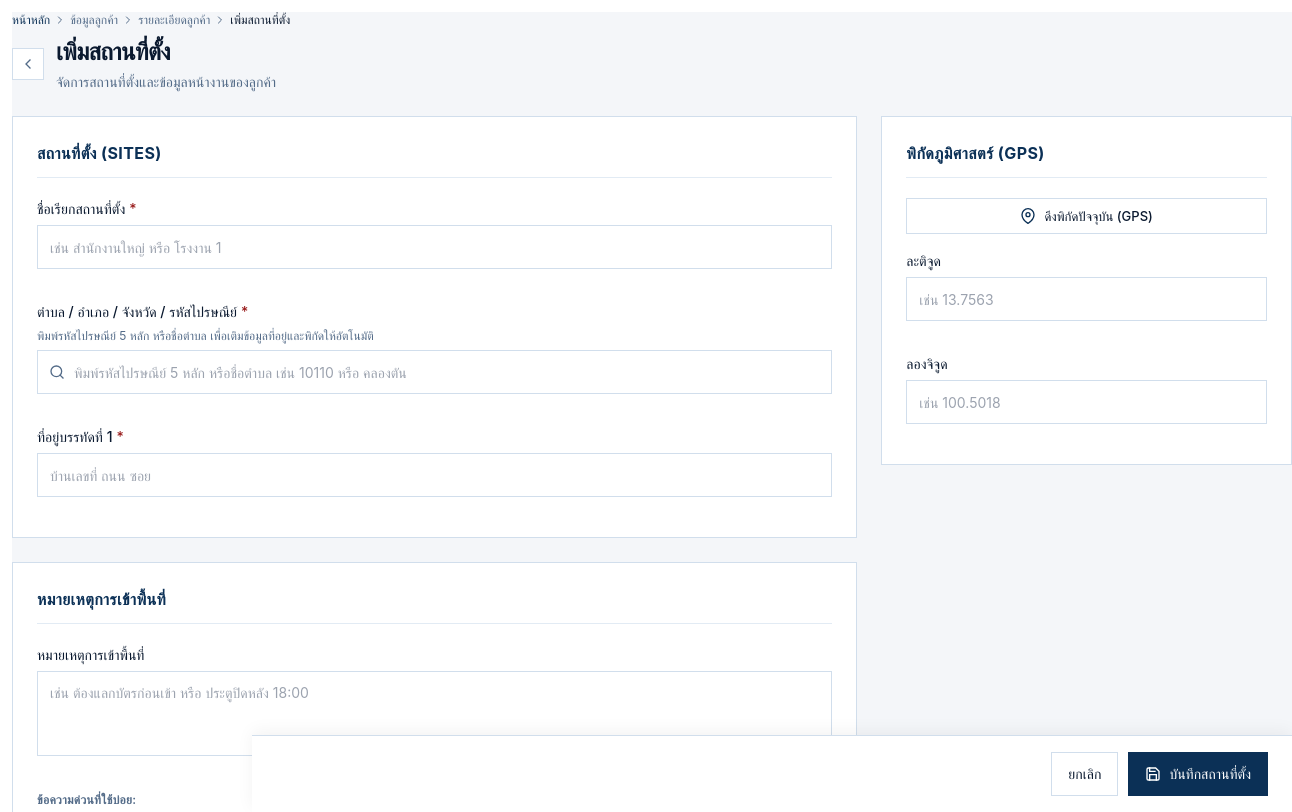
Test case: SiteEditor › clears pair validation error dynamically when second coordinate is entered
Type "13.8057436" into the number field labelled "ละติจูด".
click(1087, 299); type("13.8057436")  # box top-left (906, 277), bottom-right (1267, 321)
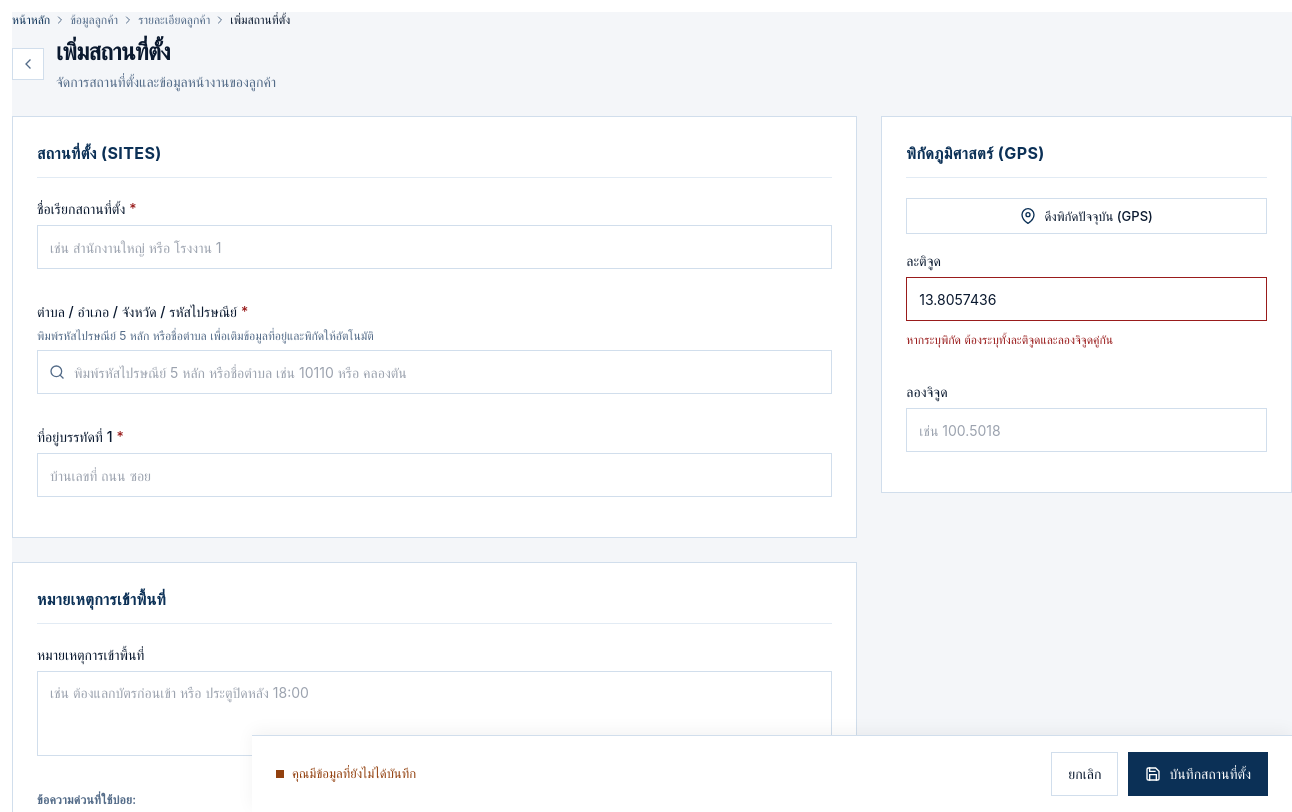
Result: the text "หากระบุพิกัด ต้องระบุทั้งละติจูดและลองจิจูดคู่กัน" is shown at top-left (906, 332), bottom-right (1113, 347)
Type "100.8213577" into the number field labelled "ลองจิจูด".
click(1087, 430); type("100.8213577")  # box top-left (906, 408), bottom-right (1267, 452)
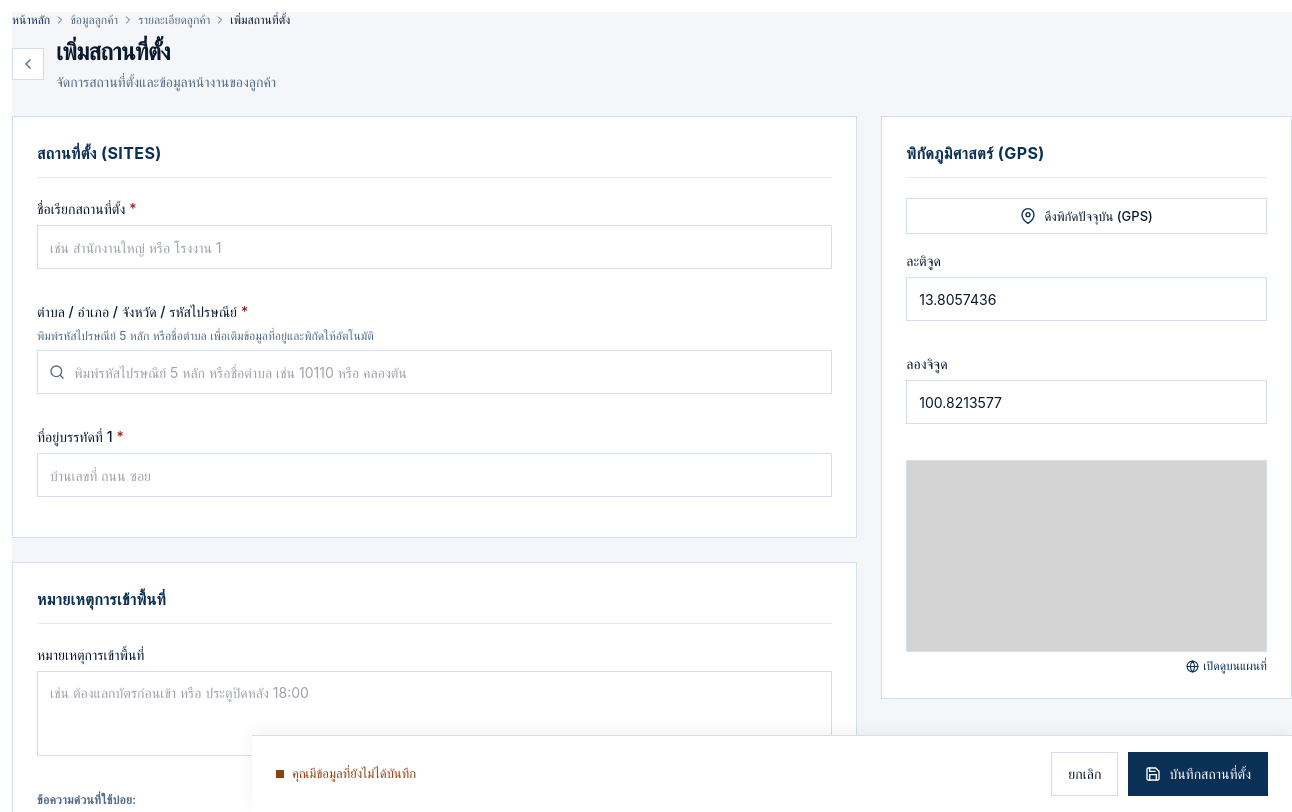
Result: the text "หากระบุพิกัด ต้องระบุทั้งละติจูดและลองจิจูดคู่กัน" is gone
